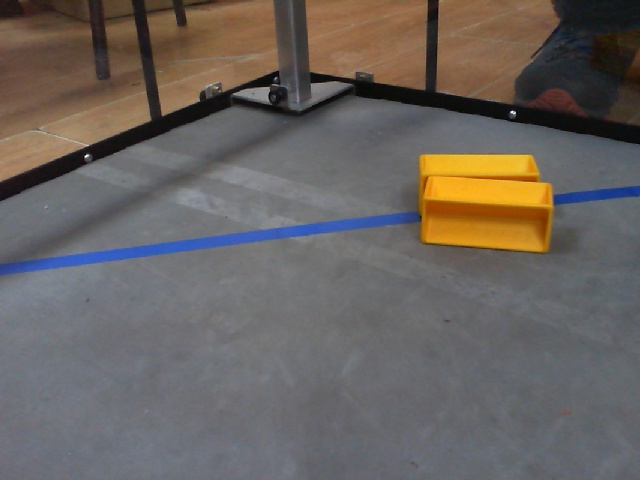YellowSample: (413, 172, 559, 252), (414, 151, 544, 207)
